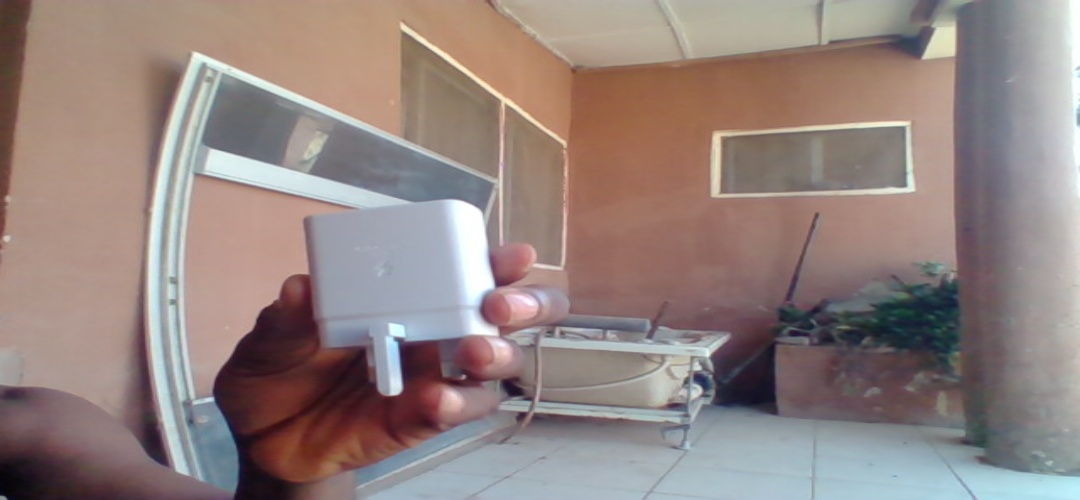phone_charger: (297, 208, 511, 397)
